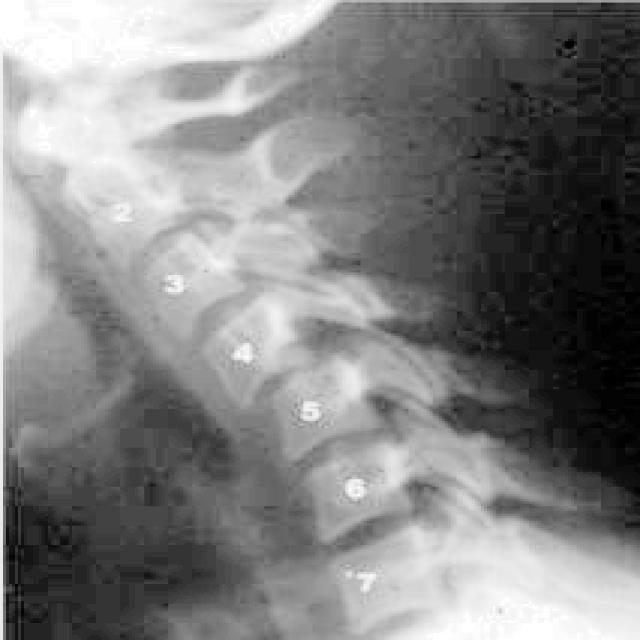Fracture Dislocation: (194, 300, 314, 402)
